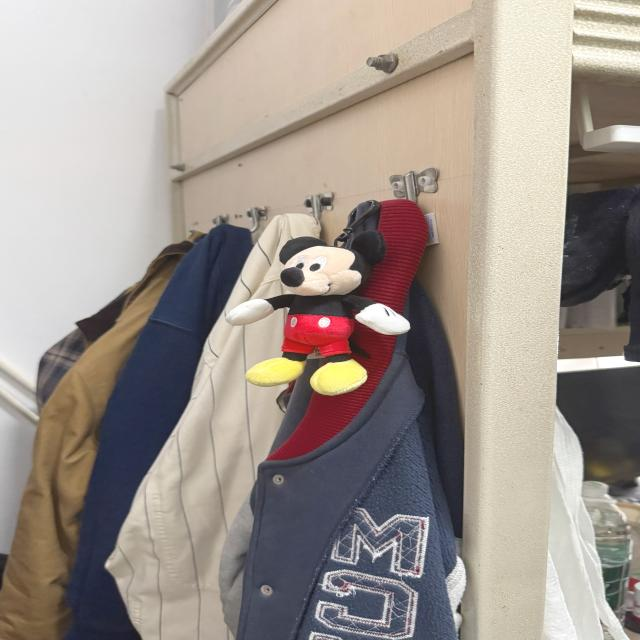mickey: (226, 231, 409, 395)
